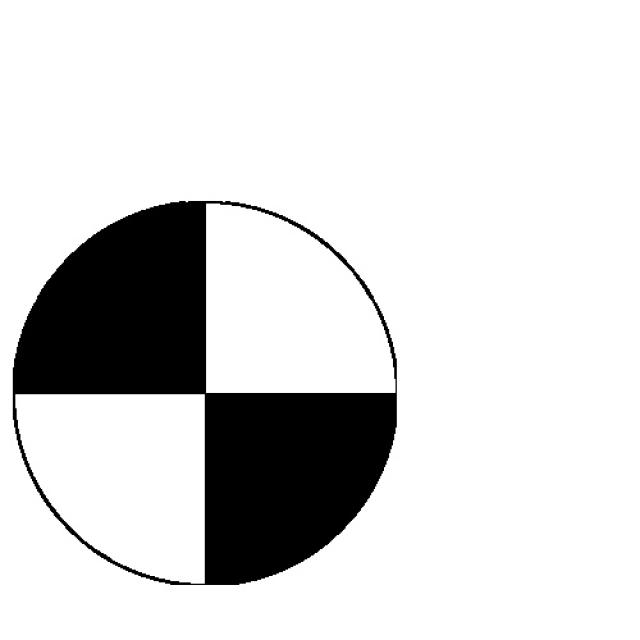Marcadores: (16, 201, 396, 583)
